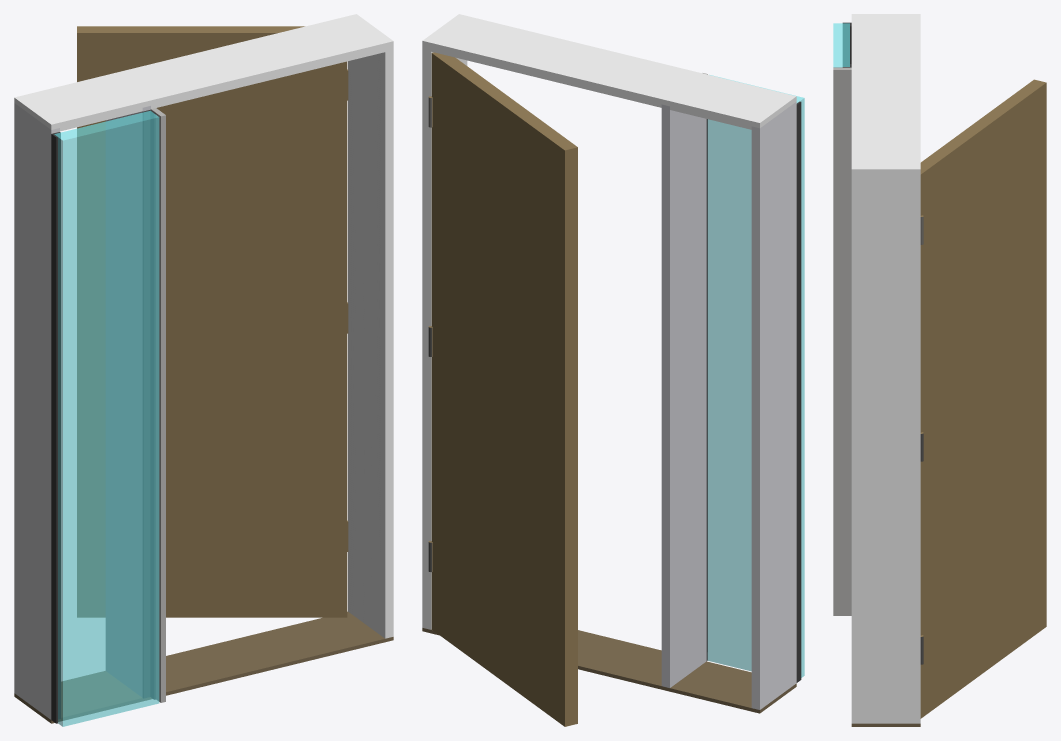
File: PARKHILL.glb
The picture shows the model from 3 angles, left to right: view 1: azimuth 30°, elevation 25°; view 2: azimuth 150°, elevation 25°; view 3: azimuth 270°, elevation 25°; orthographic projection. The views are drawn at different scales.
Size of the model in its own units: 1.21 by 2.02 by 0.7.
